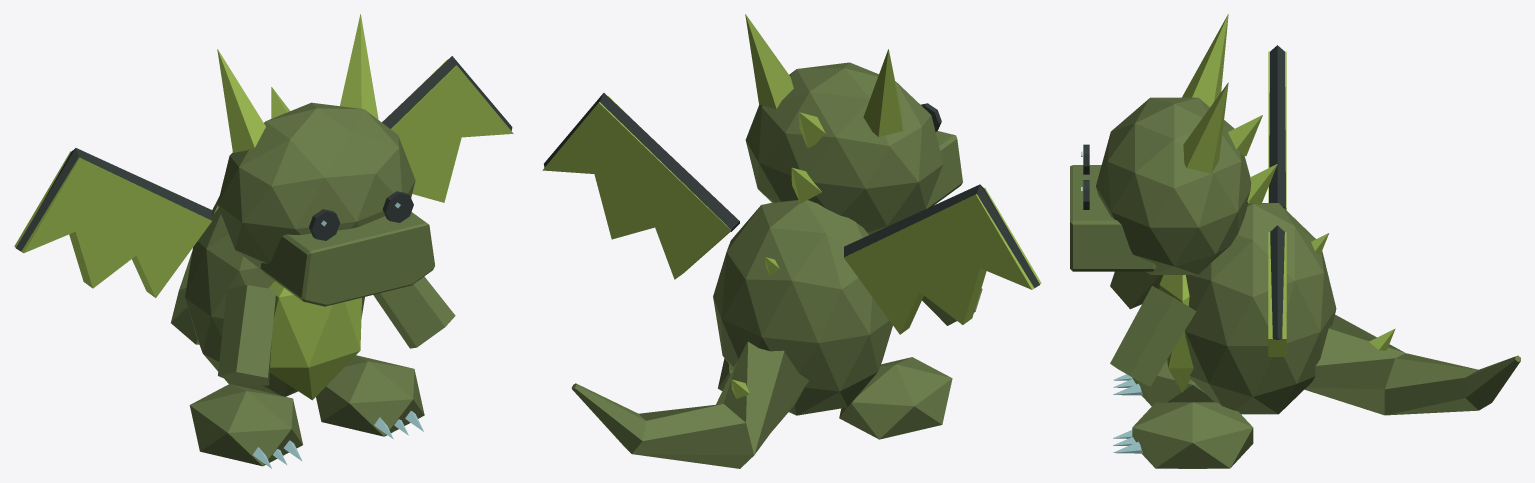
3 views of the same model, side by side, from view 1: azimuth 30°, elevation 25°; view 2: azimuth 150°, elevation 25°; view 3: azimuth 270°, elevation 25° (orthographic). The views are drawn at different scales.
Visible parts, largest first — view 1: Cabeça, Asa geométrica, Focinho angular, Asa geométrica.001, Placa do peito, Pé, Corpo, Pé.001, Braço, Braço.001, Borda da asa, Chifre (+5 smaller); view 2: Corpo, Cabeça, Asa geométrica, Cauda, Asa geométrica.001, Pé, Borda da asa.001, Borda da asa, Chifre.001, Chifre, Focinho angular, Espinho dorsal.001 (+1 smaller); view 3: Corpo, Cabeça, Cauda, Pé.001, Focinho angular, Braço.001, Borda da asa, Chifre.001, Chifre, Placa do peito, Pé, Borda da asa.001 (+5 smaller).
Boxes of the visible parts, <box> form: Cabeça: <box>217,102,415,269</box>; Asa geométrica: <box>14,151,211,297</box>; Focinho angular: <box>260,212,434,306</box>; Asa geométrica.001: <box>391,59,513,202</box>; Placa do peito: <box>268,281,361,400</box>; Pé: <box>189,384,302,466</box>; Corpo: <box>185,208,364,396</box>; Pé.001: <box>316,355,424,436</box>; Braço: <box>218,285,276,385</box>; Braço.001: <box>373,276,455,348</box>; Borda da asa: <box>16,148,211,251</box>; Chifre: <box>217,49,265,152</box>; Corpo: <box>713,200,892,415</box>; Cabeça: <box>745,62,943,234</box>; Asa geométrica: <box>844,188,1041,334</box>; Cauda: <box>571,341,809,468</box>; Asa geométrica.001: <box>542,96,730,279</box>; Pé: <box>839,357,952,439</box>; Borda da asa.001: <box>544,93,739,231</box>; Borda da asa: <box>844,184,1039,288</box>; Chifre.001: <box>745,14,793,108</box>; Chifre: <box>863,49,902,137</box>; Focinho angular: <box>926,131,962,208</box>; Espinho dorsal.001: <box>791,167,821,203</box>; Corpo: <box>1184,203,1336,414</box>; Cabeça: <box>1096,97,1251,274</box>; Cauda: <box>1304,314,1520,415</box>; Pé.001: <box>1132,402,1253,468</box>; Focinho angular: <box>1070,165,1155,271</box>; Braço.001: <box>1110,286,1196,386</box>; Borda da asa: <box>1269,45,1285,208</box>; Chifre.001: <box>1183,82,1228,173</box>; Chifre: <box>1182,14,1228,107</box>; Placa do peito: <box>1159,275,1193,392</box>; Pé: <box>1132,362,1214,406</box>; Borda da asa.001: <box>1270,225,1284,339</box>.
Bounding box in the file's own units: 2.29 × 1.76 × 1.84.
